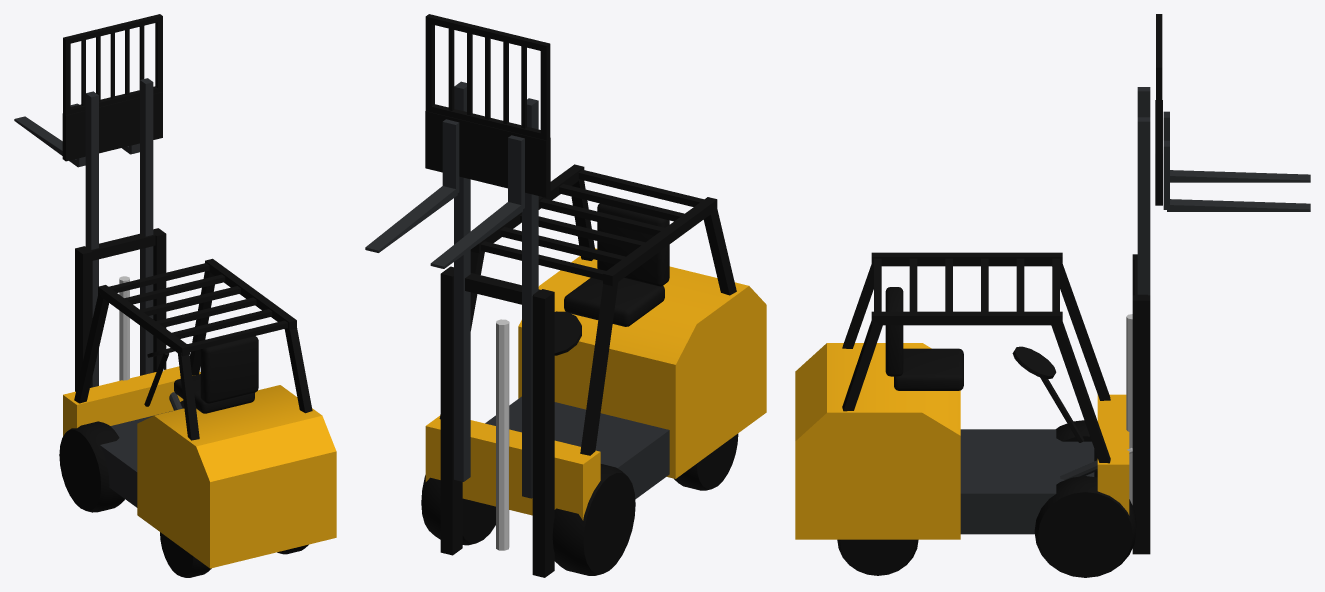
The model's file is plant.lifting.forklift_raised.glb.
The picture shows the model from 3 angles, left to right: view 1: azimuth 30°, elevation 25°; view 2: azimuth 150°, elevation 25°; view 3: azimuth 270°, elevation 25°; orthographic projection. The views are drawn at different scales.
Parts seen in each view (by area): view 1: body__plant_yellow, body__plastic_black, carriage__plastic_black, mast__steel_dark, wheels__rubber, mast__plastic_black, body__steel_dark, carriage__steel_dark, mast__steel_stainless; view 2: body__plant_yellow, body__plastic_black, mast__plastic_black, carriage__plastic_black, wheels__rubber, mast__steel_dark, body__steel_dark, carriage__steel_dark, mast__steel_stainless; view 3: body__plant_yellow, body__plastic_black, body__steel_dark, wheels__rubber, mast__plastic_black, carriage__steel_dark, mast__steel_dark, carriage__plastic_black, mast__steel_stainless.
Part boxes in pixels (<box>): body__plant_yellow: <box>63,366,336,568</box>; body__plastic_black: <box>74,258,312,440</box>; carriage__plastic_black: <box>62,14,162,161</box>; mast__steel_dark: <box>85,78,182,410</box>; wheels__rubber: <box>59,400,308,577</box>; mast__plastic_black: <box>75,228,166,391</box>; body__steel_dark: <box>100,410,173,507</box>; carriage__steel_dark: <box>14,103,139,167</box>; mast__steel_stainless: <box>119,276,164,380</box>; body__plant_yellow: <box>425,248,766,520</box>; body__plastic_black: <box>439,164,736,455</box>; mast__plastic_black: <box>440,266,554,577</box>; carriage__plastic_black: <box>425,14,550,197</box>; wheels__rubber: <box>421,433,738,575</box>; mast__steel_dark: <box>454,81,538,498</box>; body__steel_dark: <box>485,396,669,499</box>; carriage__steel_dark: <box>365,119,524,268</box>; mast__steel_stainless: <box>496,319,509,550</box>; body__plant_yellow: <box>795,343,1129,539</box>; body__plastic_black: <box>842,252,1110,463</box>; body__steel_dark: <box>960,429,1094,534</box>; wheels__rubber: <box>837,420,1136,577</box>; mast__plastic_black: <box>1132,254,1150,554</box>; carriage__steel_dark: <box>1163,111,1310,211</box>; mast__steel_dark: <box>1060,87,1150,479</box>; carriage__plastic_black: <box>1155,14,1162,205</box>; mast__steel_stainless: <box>1126,314,1132,504</box>.
Bounding box in the file's own units: 1.34 × 4.37 × 4.05.
